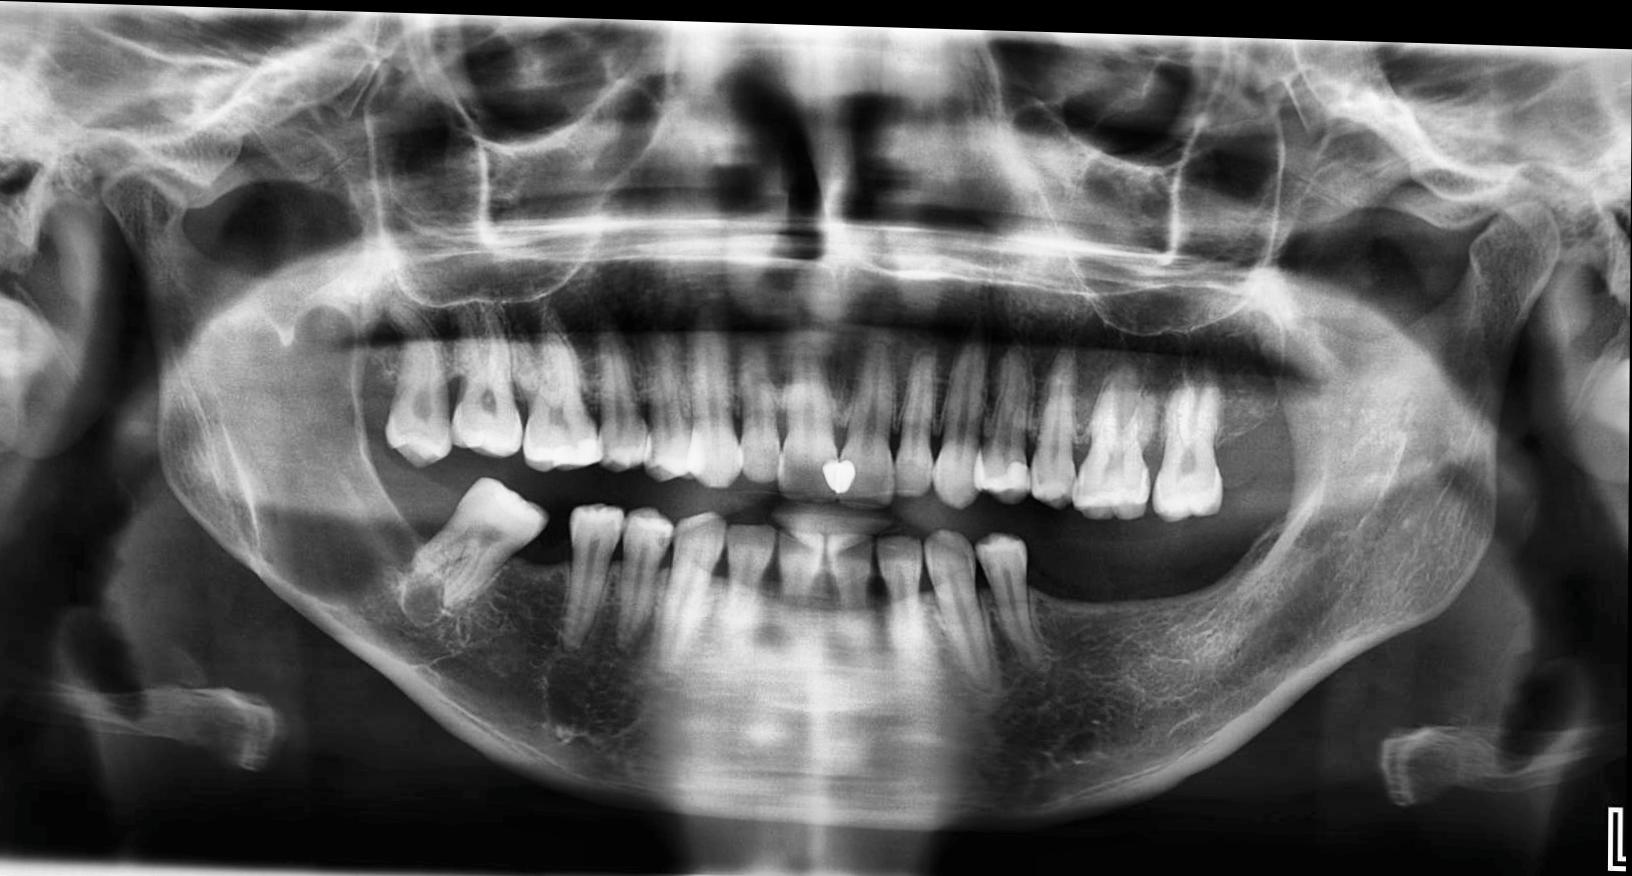okc: (185, 297, 449, 626)
